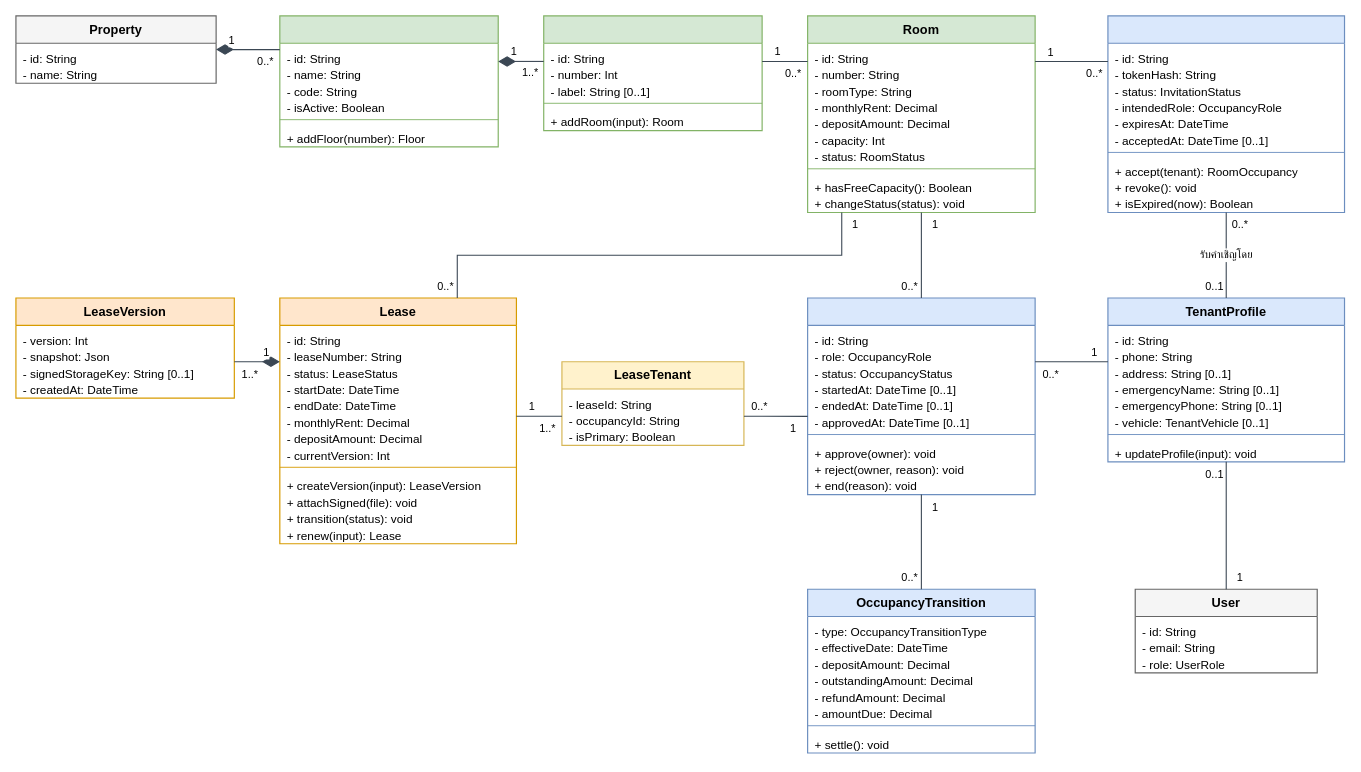
This 1361x772 diagram has some shape labels left out. The box of each missing label's shape, as (x1, y1, x2, y2) in pixels:
Building: (279, 15, 498, 147)
Floor: (543, 15, 762, 131)
RoomOccupancy: (807, 297, 1035, 495)
TenantInvitation: (1107, 15, 1345, 213)
